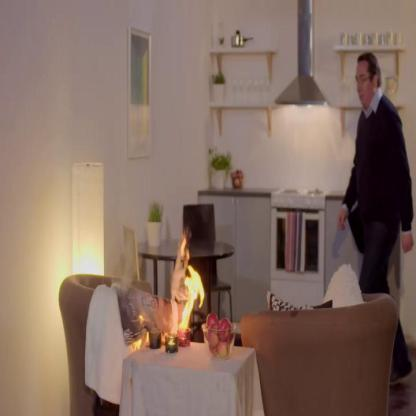fire: (180, 232, 205, 330)
